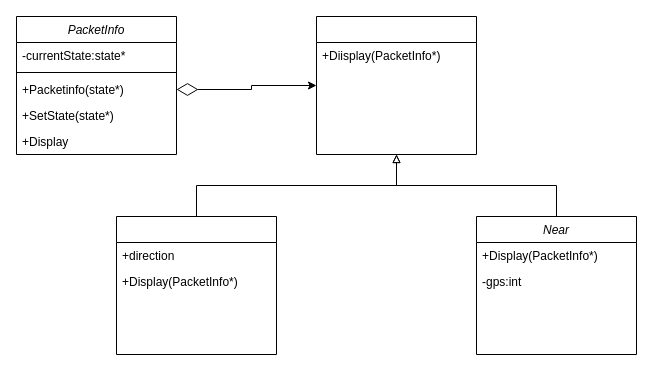
Image size: 653x371. Some labels were removed from this diagram. The shapes that lost their labels are listed below. From the top down, each one's box as (x1, y1, x2, y2) in pixels, then its label:
(316, 16, 476, 154): state
(116, 216, 276, 354): Far
